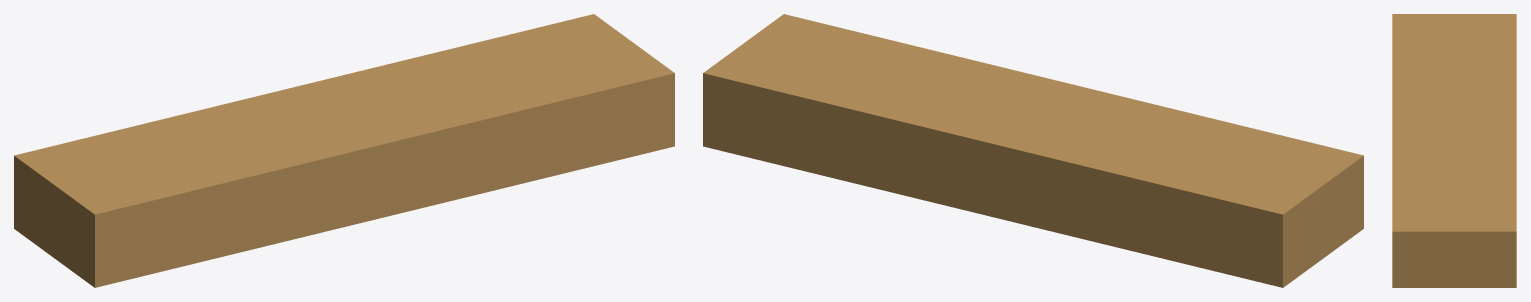
The picture shows the model from 3 angles, left to right: view 1: azimuth 30°, elevation 25°; view 2: azimuth 150°, elevation 25°; view 3: azimuth 270°, elevation 25°; orthographic projection. The views are drawn at different scales.
Visible parts, largest first — view 1: RUN-012-S00-NOG-24; view 2: RUN-012-S00-NOG-24; view 3: RUN-012-S00-NOG-24.
Part boxes in pixels (left/top/right/bottom): RUN-012-S00-NOG-24: left=14, top=14, right=674, bottom=287; RUN-012-S00-NOG-24: left=703, top=14, right=1363, bottom=287; RUN-012-S00-NOG-24: left=1392, top=14, right=1516, bottom=287.
Bounding box in the file's own units: 0.3728 × 0.045 × 0.09.
